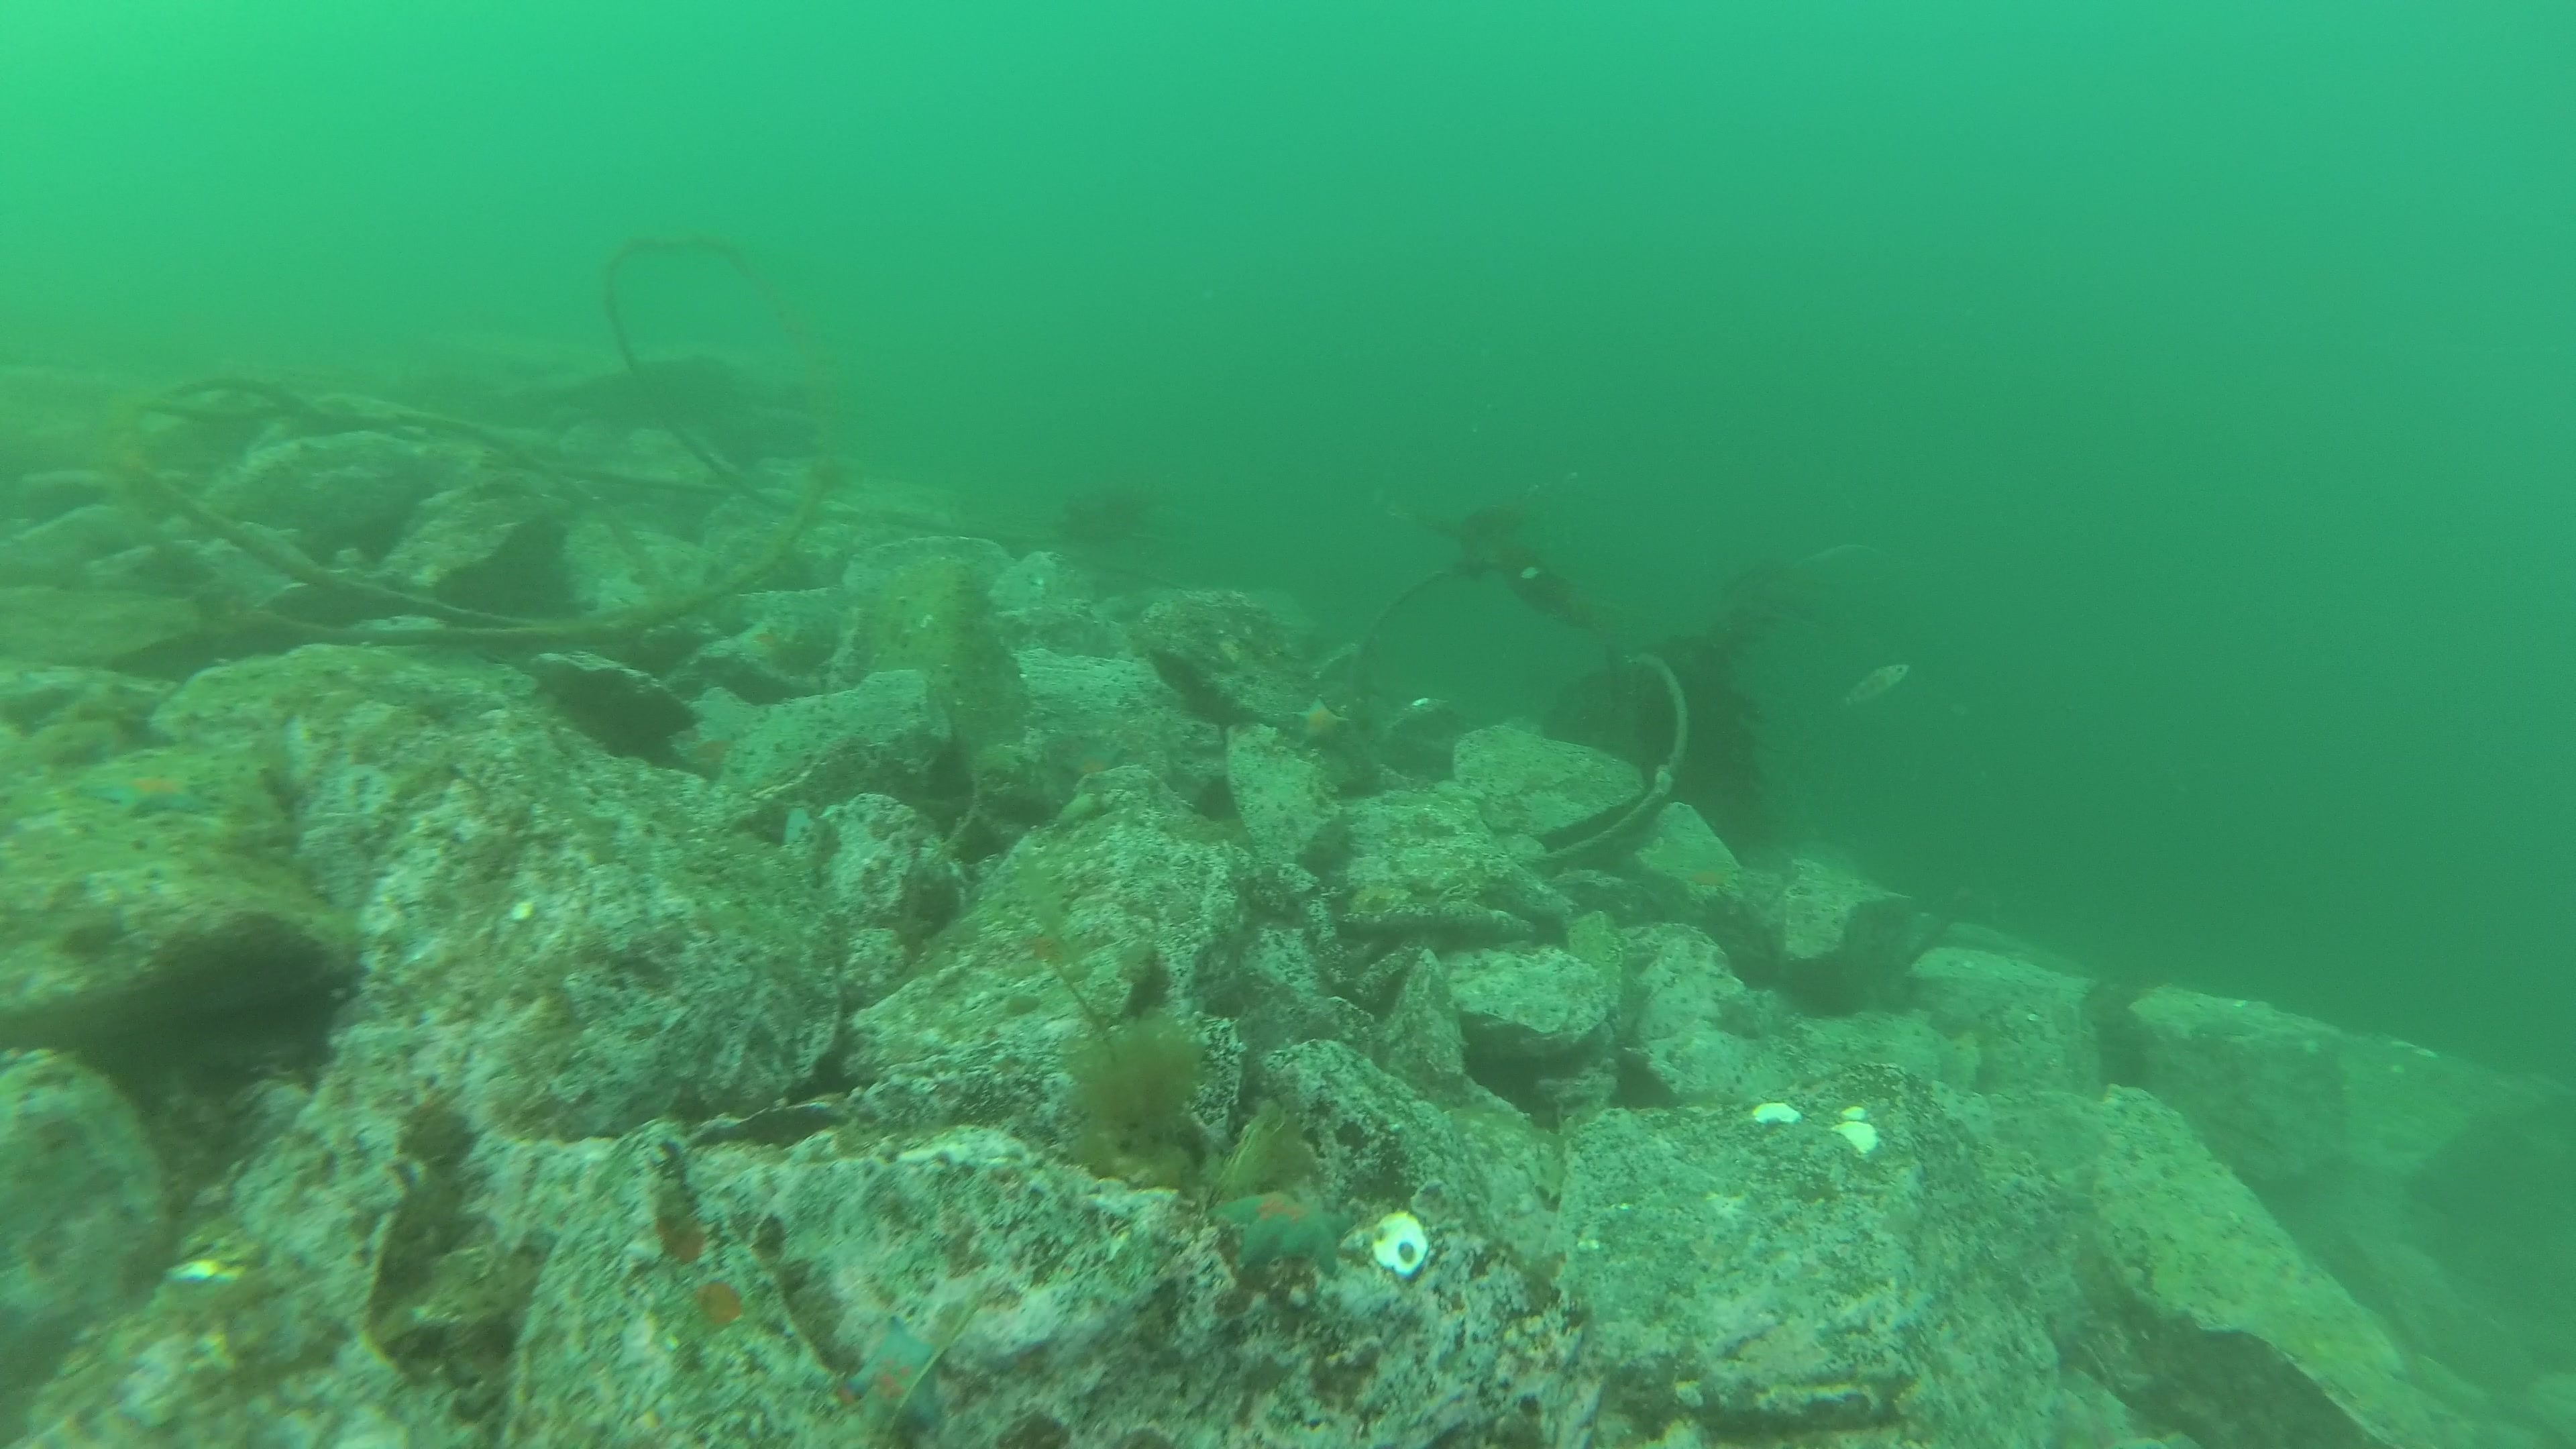starfish: (1201, 1184, 1362, 1283), (840, 1315, 957, 1444), (71, 773, 226, 824), (1290, 692, 1357, 752)
